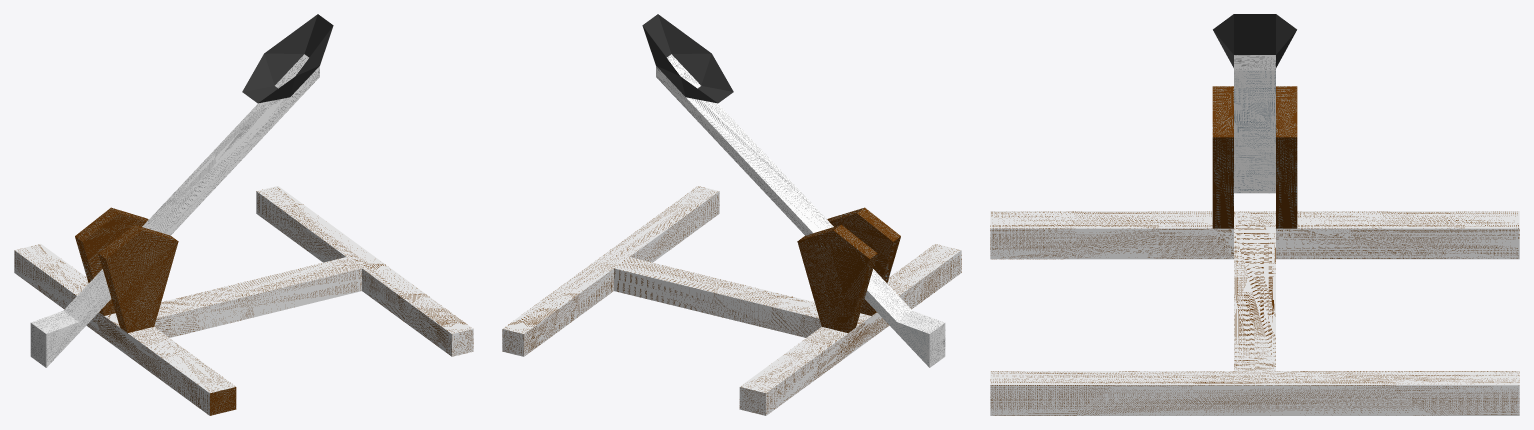
File: catapult.dae
The picture shows the model from 3 angles, left to right: view 1: azimuth 30°, elevation 25°; view 2: azimuth 150°, elevation 25°; view 3: azimuth 270°, elevation 25°; orthographic projection. The views are drawn at different scales.
Visible parts, largest first — view 1: SketchUp (×3); view 2: SketchUp (×4); view 3: SketchUp (×4).
Part boxes in pixels (<box>): SketchUp (×3): <box>14,14,473,415</box>; SketchUp (×4): <box>502,14,961,415</box>; SketchUp (×4): <box>990,14,1519,415</box>.
Size of the model in its own units: 49.04 by 49.21 by 37.86.
